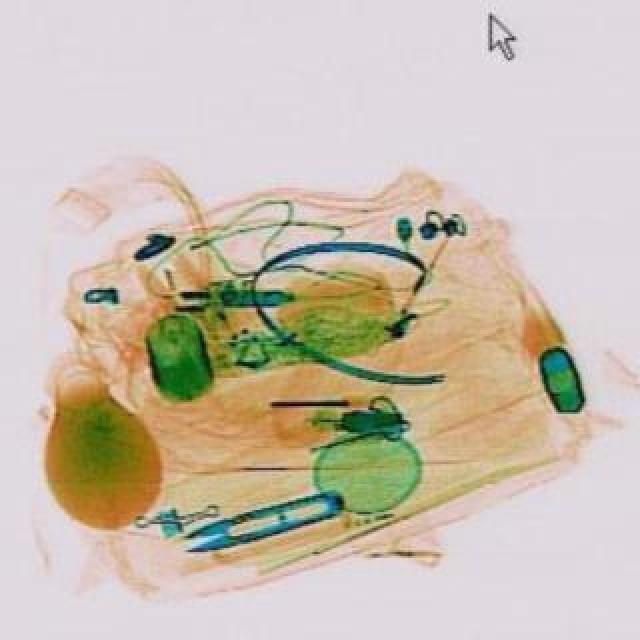pliers: (172, 482, 346, 558)
